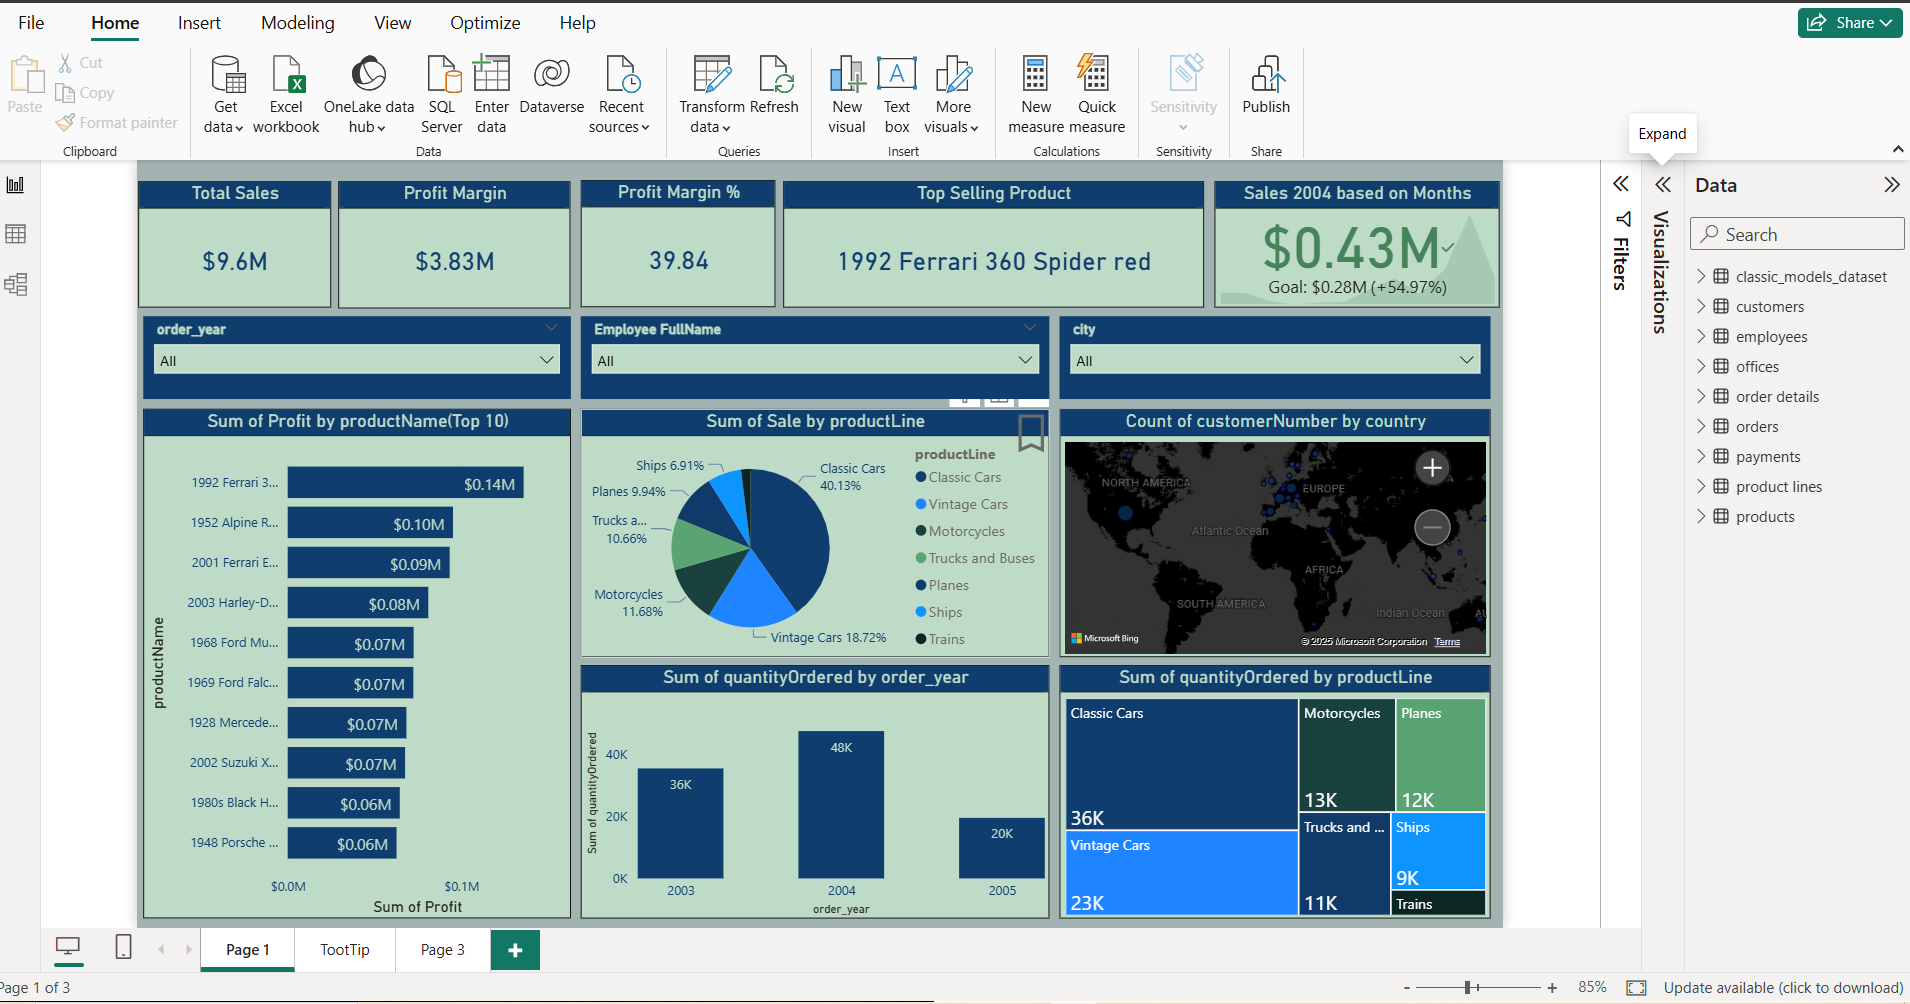

Layout of this report page (visuals, bound fields, positions):
{"tool":"powerbi","page":{"name":"Page 1","canvas":[1280,720],"ordinal":0},"visuals":[{"type":"barChart","title":"Sum of Profit by productName(Top 10)","fields":{"Y":["order details.Profit"],"Category":["products.productName"]},"box":[5.9,233.1,400.7,478],"z":0},{"type":"pieChart","fields":{"Category":["product lines.productLine"],"Y":["order details.Sale"]},"box":[415.9,233.1,439.3,233.1],"z":1000},{"type":"slicer","fields":{"Values":["orders.order_year"]},"box":[5.9,146.4,400.7,77.3],"z":2000},{"type":"card","title":"Profit Margin","fields":{"Values":["order details.Profit"]},"box":[188.6,19.9,217.9,119.5],"z":3000},{"type":"kpi","title":"Sales 2004 based on Months","fields":{"Indicator":["orders.year_2004"],"Goal":["orders.year_2003"],"TrendLine":["orders.Month Name"]},"box":[1010.1,20.2,267.1,118.7],"z":4000},{"type":"map","fields":{"Size":["customers.customerNumber"],"Category":["customers.country"]},"box":[864.6,233.1,404.2,233.1],"z":5000},{"type":"treemap","fields":{"Group":["products.productLine"],"Values":["order details.quantityOrdered"]},"box":[864.6,473.3,404.2,237.8],"z":6000},{"type":"clusteredColumnChart","fields":{"Y":["order details.quantityOrdered"],"Category":["orders.order_year"]},"box":[415.9,473.3,439.3,237.8],"z":7000},{"type":"card","title":"Profit Margin %","fields":{"Values":["classic_models_dataset.Total Profit %"]},"box":[415.9,18.7,182.8,119.5],"z":8000},{"type":"card","title":"Total Sales","fields":{"Values":["order details.Sale"]},"box":[1.2,20.2,180.4,118.7],"z":9000},{"type":"card","title":"Top Selling Product","fields":{"Values":["classic_models_dataset.MostOrderedProduct"]},"box":[605.3,20.2,394.1,118.7],"z":10000},{"type":"slicer","title":"E","fields":{"Values":["employees.FullName"]},"box":[415.9,146.4,439.3,77.3],"z":11000},{"type":"slicer","fields":{"Values":["employees.city"]},"box":[864.6,146.4,404.2,77.3],"z":12000},{"type":"actionButton","box":[815.4,233.1,49.2,45.7],"z":13000}]}

Visuals, with their boxes on the page's 1280x720 design canvas (x1, y1, x2, y2). These are canvas units, not pixel positions in the 1910x1004 screenshot, which may show the page scaled, cropped or inside an application window:
"Sum of Profit by productName(Top 10)" barChart: (6,233,407,711)
pieChart - product lines.productLine x order details.Sale: (416,233,855,466)
slicer - orders.order_year: (6,146,407,224)
"Profit Margin" card: (189,20,406,139)
"Sales 2004 based on Months" kpi: (1010,20,1277,139)
map - customers.customerNumber x customers.country: (865,233,1269,466)
treemap - products.productLine x order details.quantityOrdered: (865,473,1269,711)
clusteredColumnChart - order details.quantityOrdered x orders.order_year: (416,473,855,711)
"Profit Margin %" card: (416,19,599,138)
"Total Sales" card: (1,20,182,139)
"Top Selling Product" card: (605,20,999,139)
"E" slicer: (416,146,855,224)
slicer - employees.city: (865,146,1269,224)
actionButton: (815,233,865,279)
